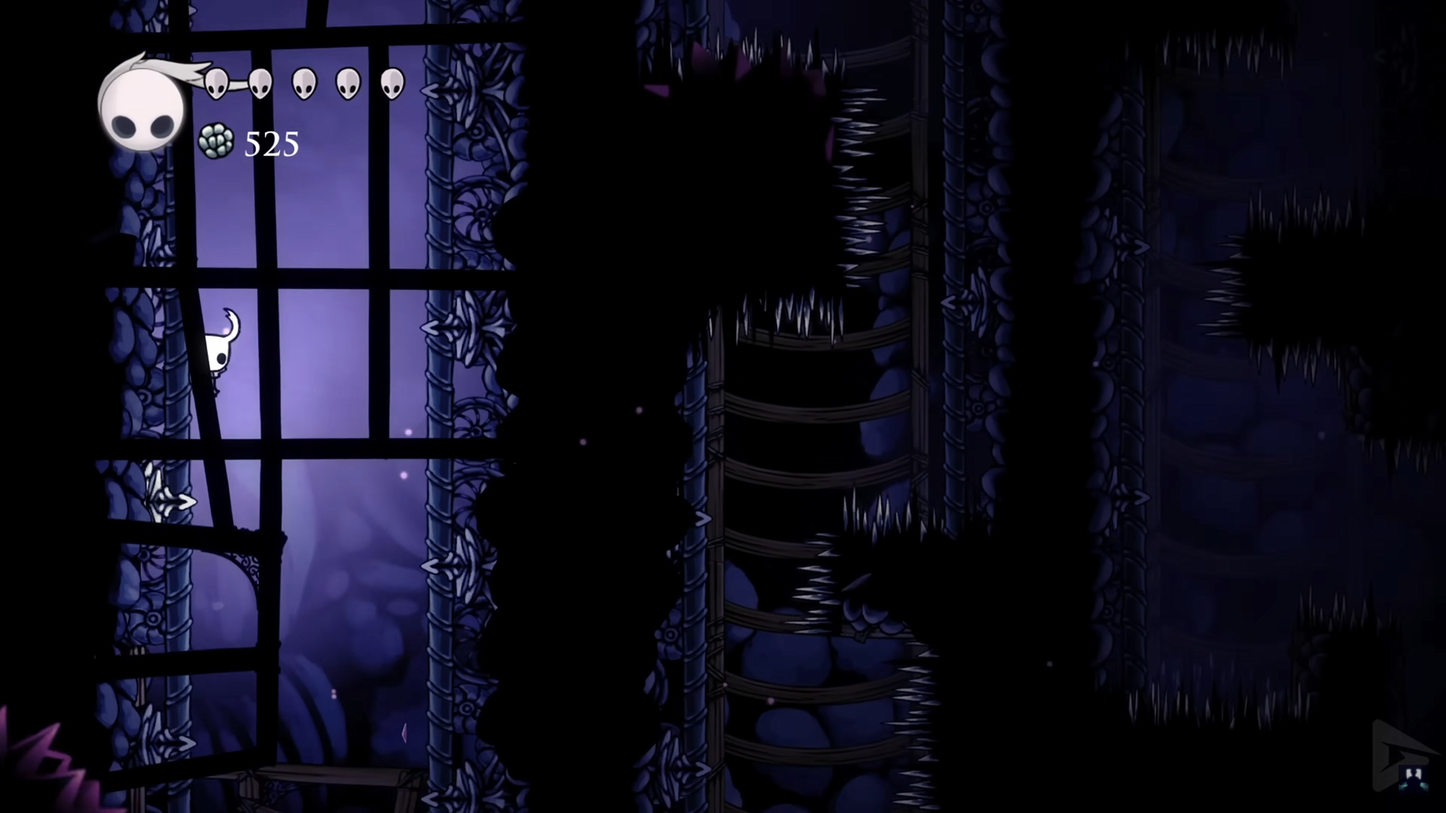HK: (198, 305, 245, 396)
